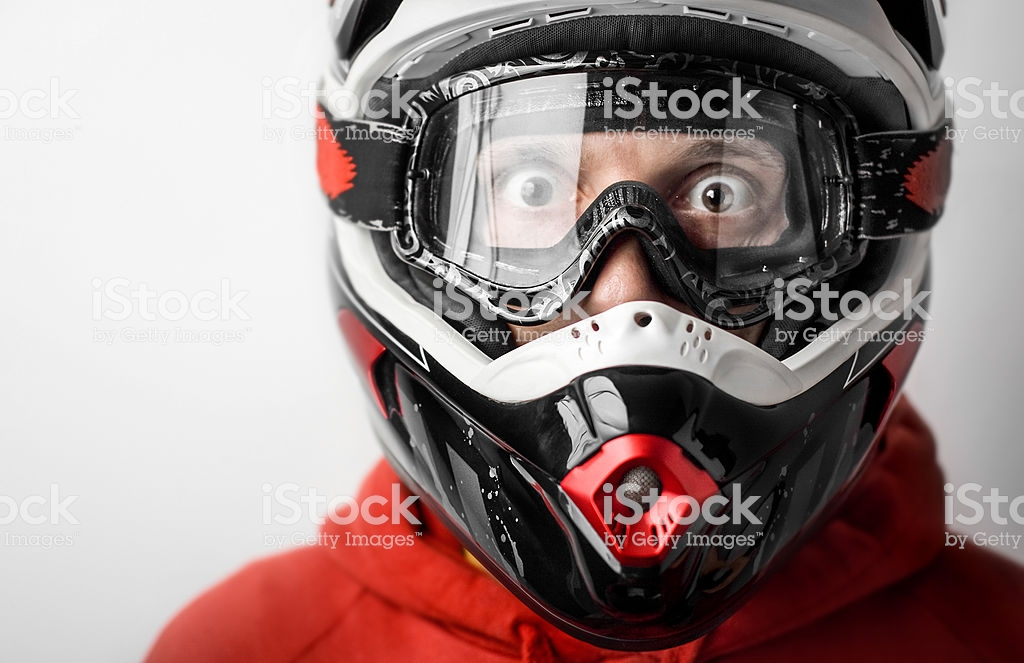helmet: (311, 7, 953, 616)
